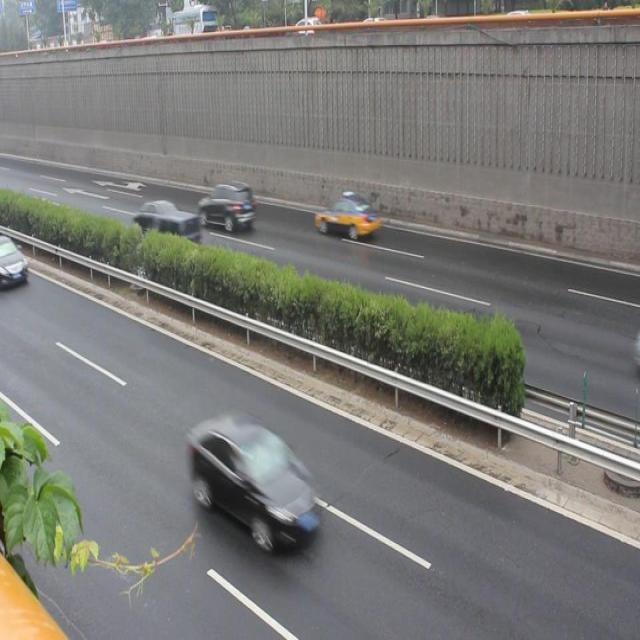car: (182, 403, 328, 558), (312, 187, 382, 249), (134, 192, 202, 248), (196, 178, 252, 234), (1, 237, 30, 294)
